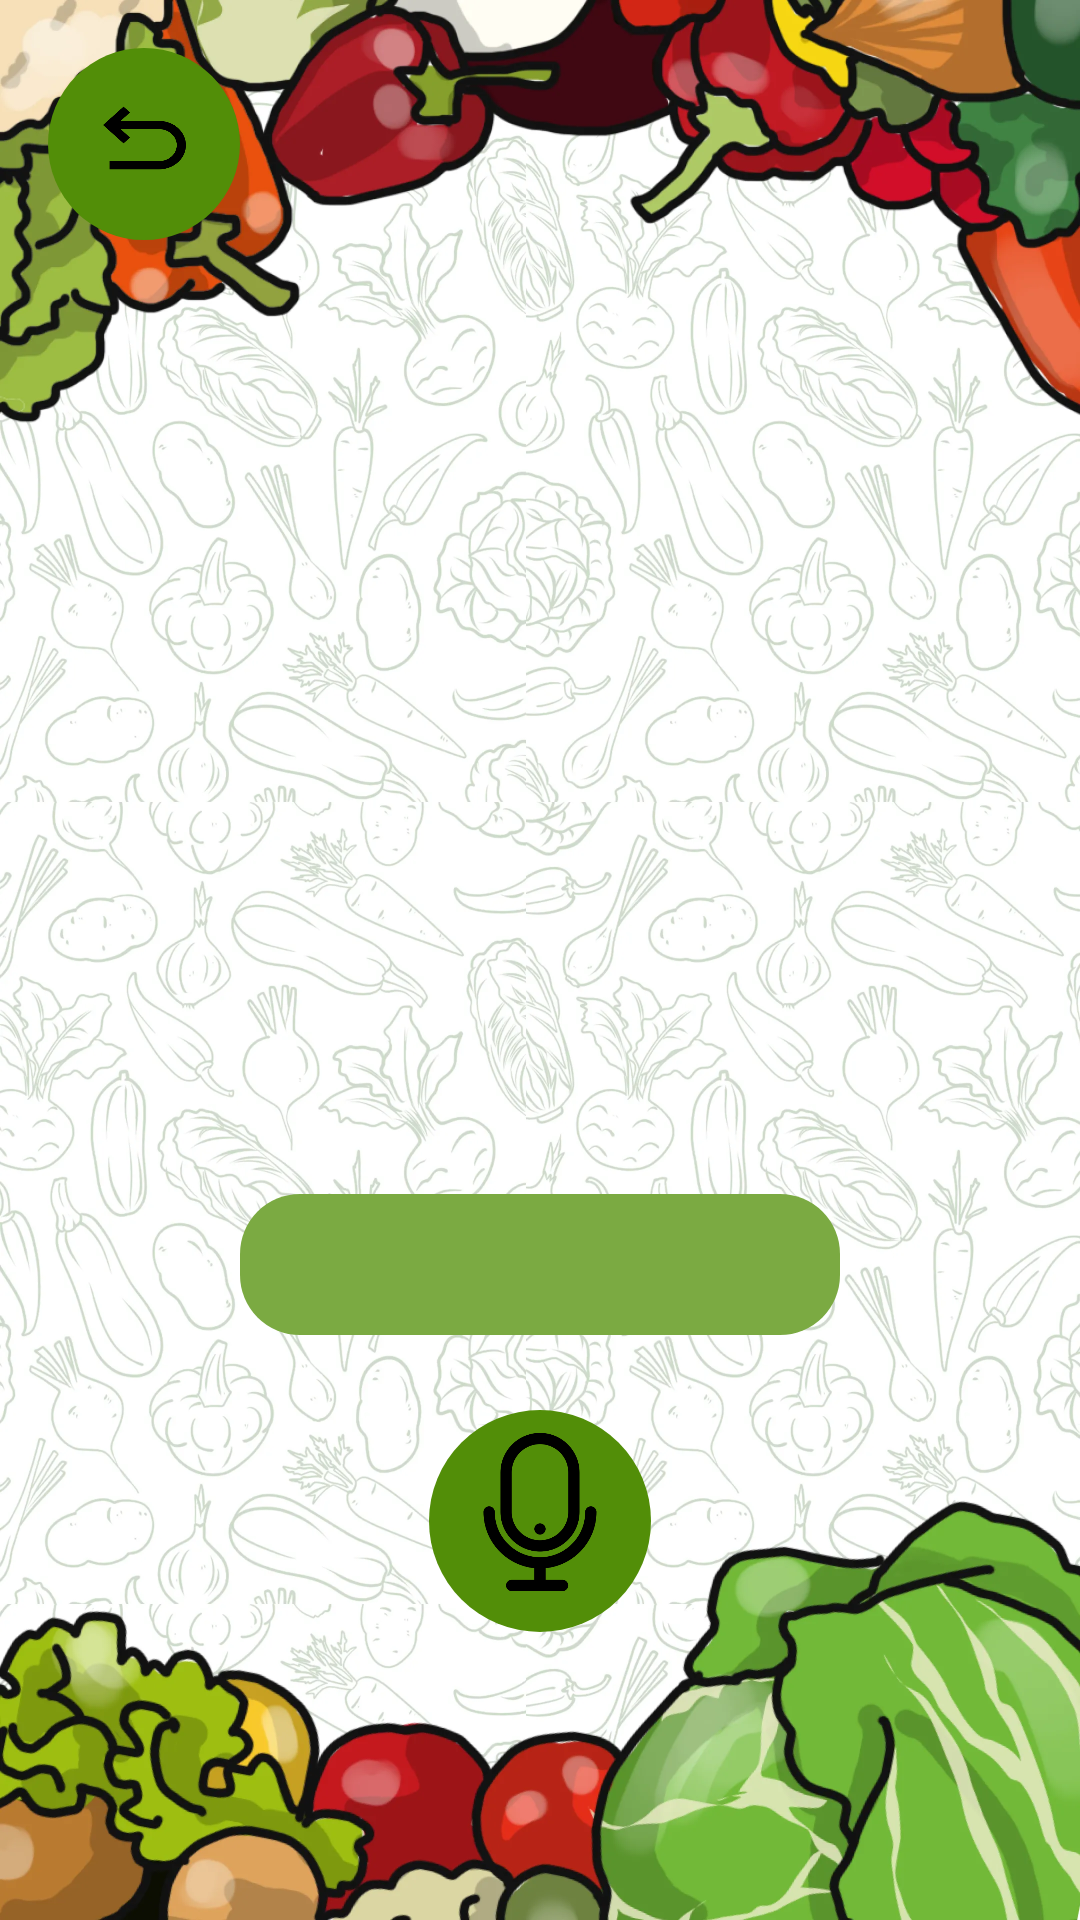

Icon bounding boxes for this 1080px×1920px phone screenshot, format (x1, y1, x2, y2):
microfon: (483, 1433, 597, 1591)
turn left: (103, 107, 186, 170)
